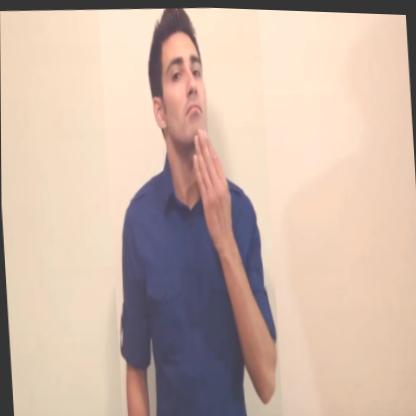ThankYou: (98, 3, 282, 416)
